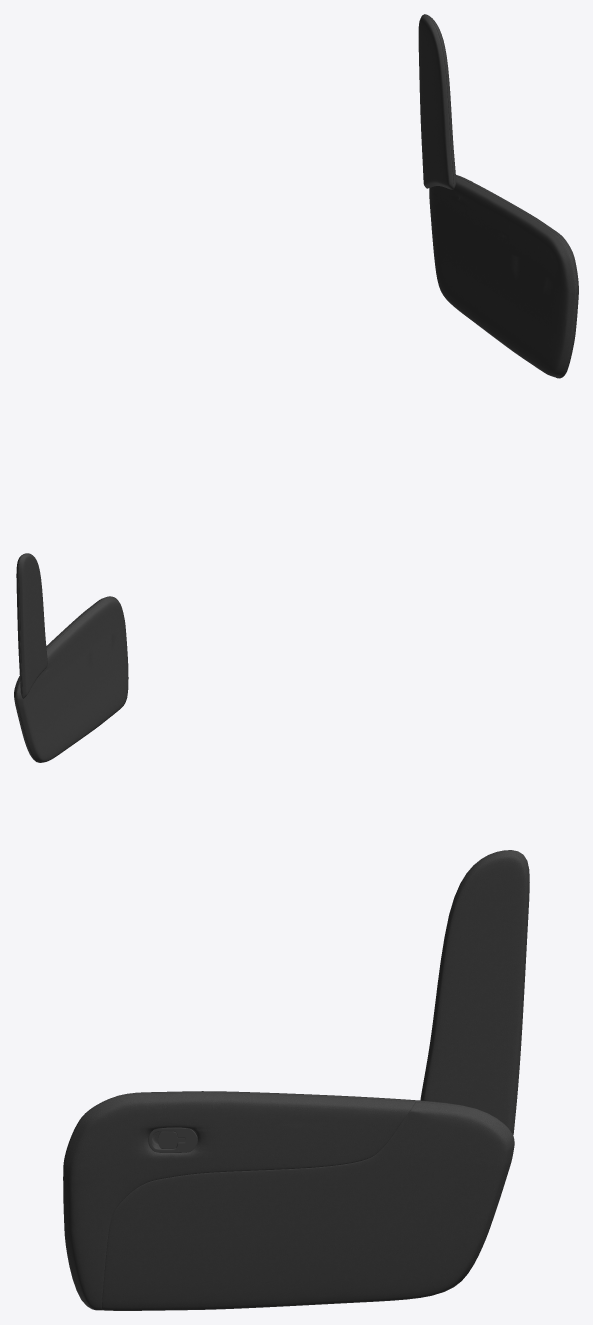
File: talbeandchair_small.glb
3 renders of one model, top to bottom at view 1: azimuth 30°, elevation 25°; view 2: azimuth 150°, elevation 25°; view 3: azimuth 270°, elevation 25°, orthographic. The views are drawn at different scales.
Parts seen in each view (by area): view 1: Mesh13_Leather_05_0, Mesh12_Leather_05_0; view 2: Mesh13_Leather_05_0, Mesh12_Leather_05_0; view 3: Mesh13_Leather_05_0, Mesh12_Leather_05_0, Mesh1_Plastic_03_0.
Part boxes in pixels (bbox=[...]): Mesh13_Leather_05_0: bbox=[429, 175, 578, 378]; Mesh12_Leather_05_0: bbox=[418, 14, 456, 189]; Mesh13_Leather_05_0: bbox=[14, 596, 128, 762]; Mesh12_Leather_05_0: bbox=[16, 553, 47, 698]; Mesh13_Leather_05_0: bbox=[63, 1091, 514, 1310]; Mesh12_Leather_05_0: bbox=[420, 850, 529, 1134]; Mesh1_Plastic_03_0: bbox=[148, 1127, 197, 1152].
Bounding box in the file's own units: 2043 × 983 × 883.
4 materials, 4 textured.
